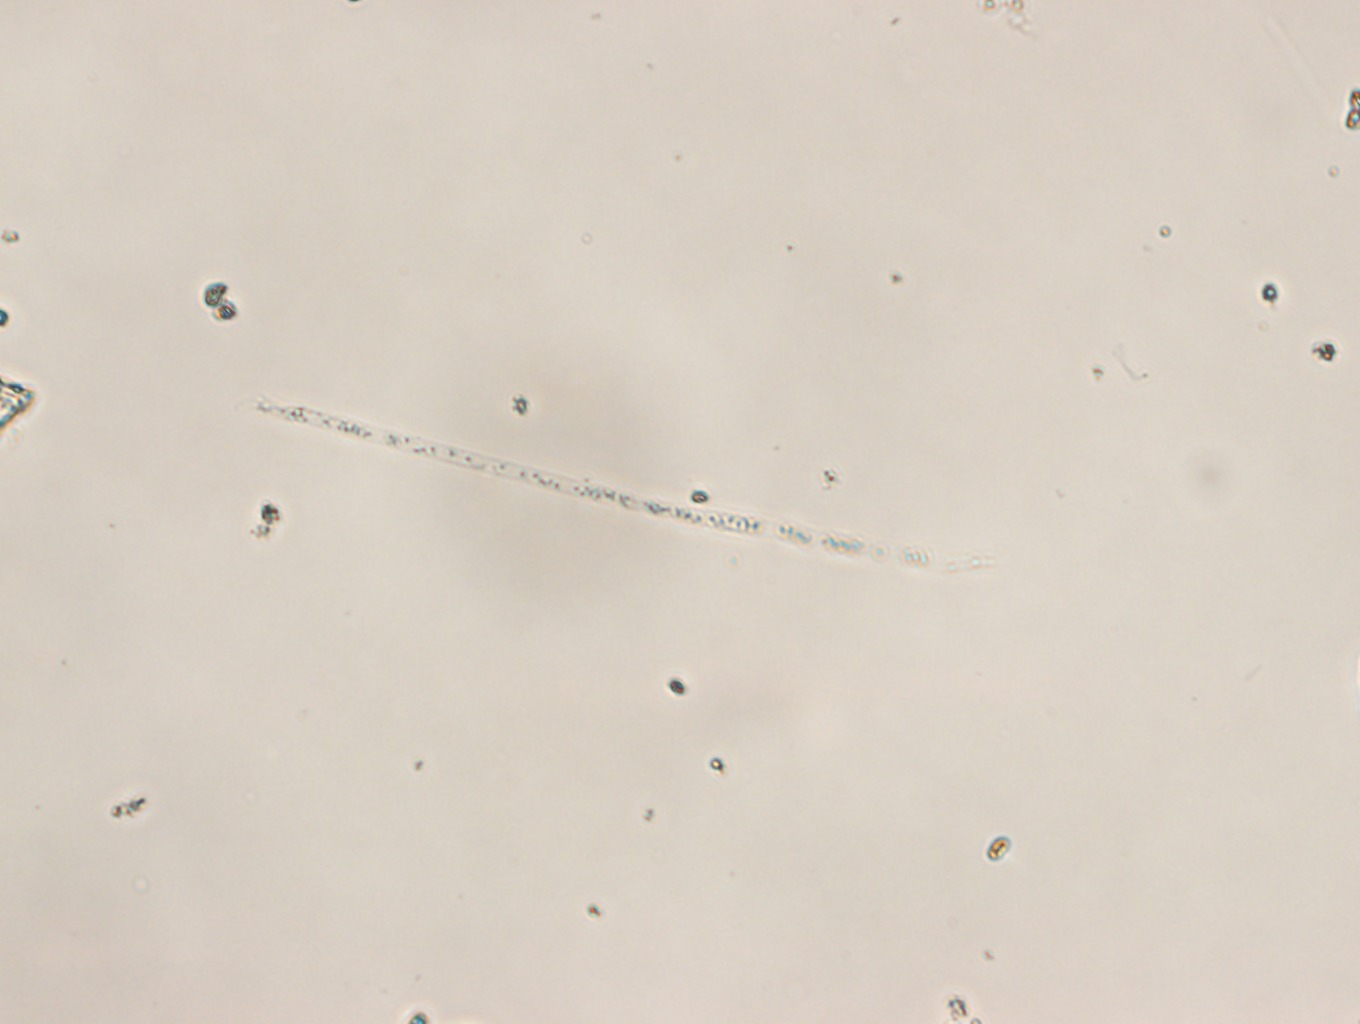rhizosolenia: (259, 400, 1012, 573)
